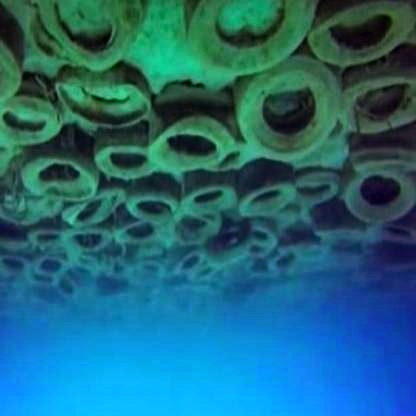tire: (232, 42, 341, 164), (296, 1, 403, 87), (151, 97, 246, 186), (193, 1, 316, 63), (46, 1, 150, 68), (342, 66, 416, 147), (85, 131, 168, 202)
